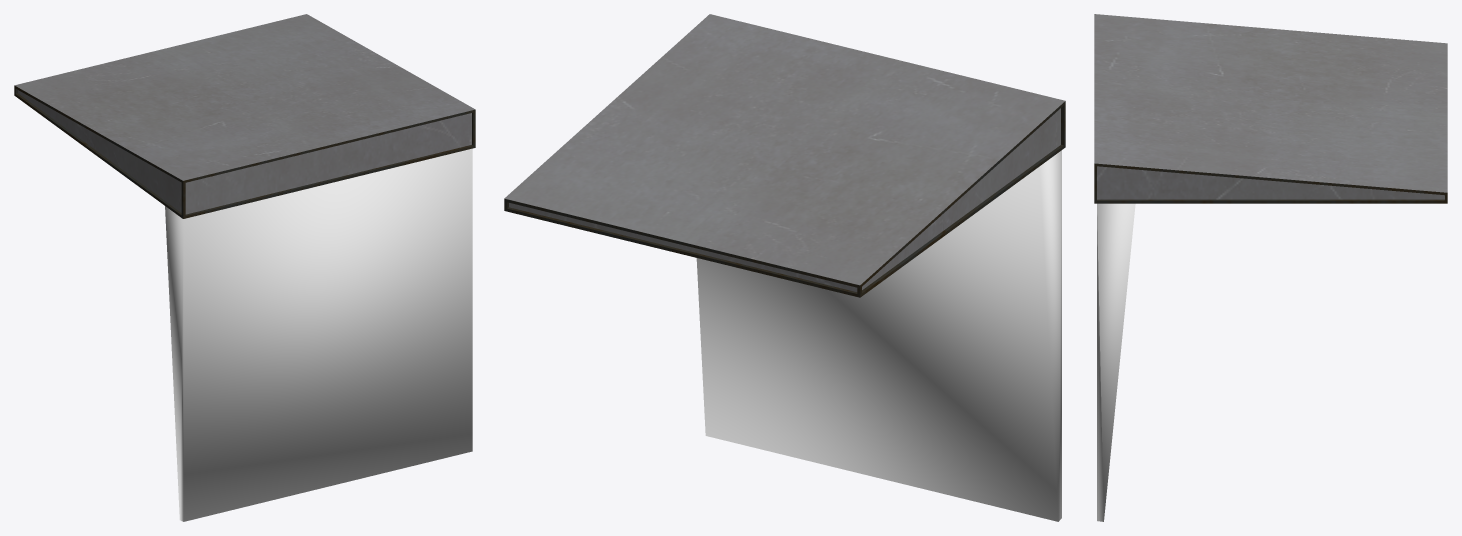
The model's file is SM_Roof_Large_03.fbx.
The picture shows the model from 3 angles, left to right: view 1: azimuth 30°, elevation 25°; view 2: azimuth 150°, elevation 25°; view 3: azimuth 270°, elevation 25°; orthographic projection. The views are drawn at different scales.
Visible parts, largest first — view 1: SM_Roof_Large_03_ConvexHulls, SM_Roof_Large_03; view 2: SM_Roof_Large_03, SM_Roof_Large_03_ConvexHulls; view 3: SM_Roof_Large_03, SM_Roof_Large_03_ConvexHulls.
Part boxes in pixels (x1=…): SM_Roof_Large_03_ConvexHulls: x1=165, y1=148, x2=472, y2=521; SM_Roof_Large_03: x1=14, y1=14, x2=475, y2=218; SM_Roof_Large_03: x1=504, y1=14, x2=1065, y2=297; SM_Roof_Large_03_ConvexHulls: x1=696, y1=150, x2=1061, y2=521; SM_Roof_Large_03: x1=1094, y1=14, x2=1447, y2=203; SM_Roof_Large_03_ConvexHulls: x1=1097, y1=203, x2=1135, y2=521.
Size of the model in its own units: 6 by 6.72 by 6.
